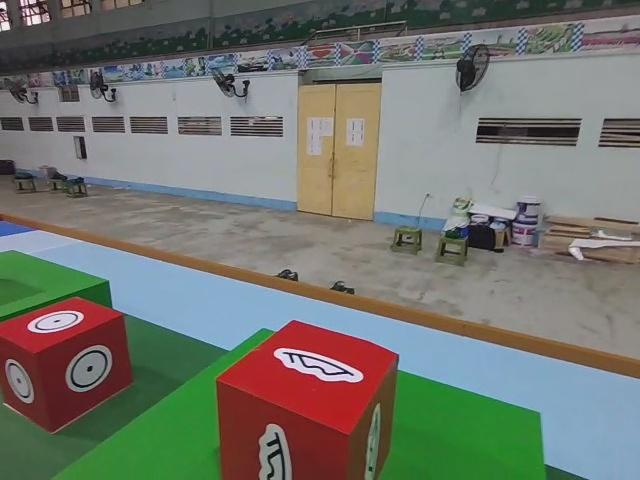R2 Real: (212, 317, 401, 480), (0, 293, 135, 433)
